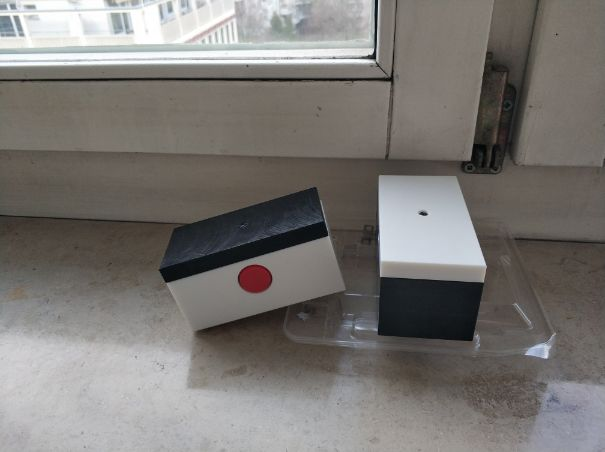black+white+red: (156, 185, 350, 336)
